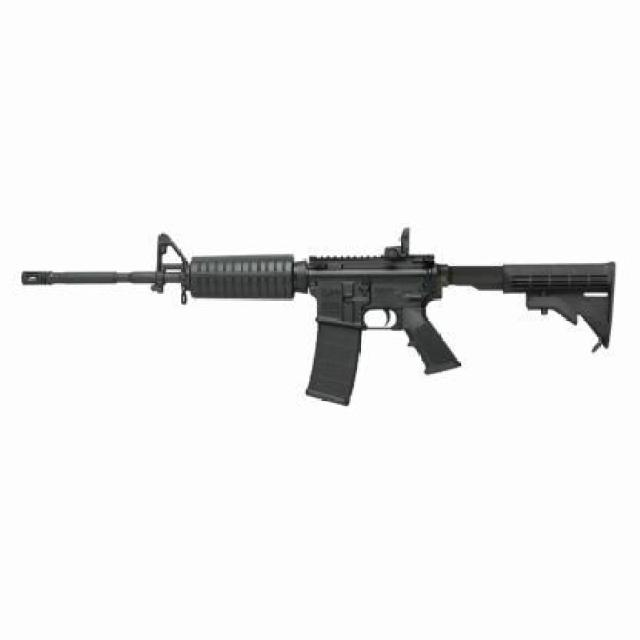weapon: (16, 212, 617, 422)
